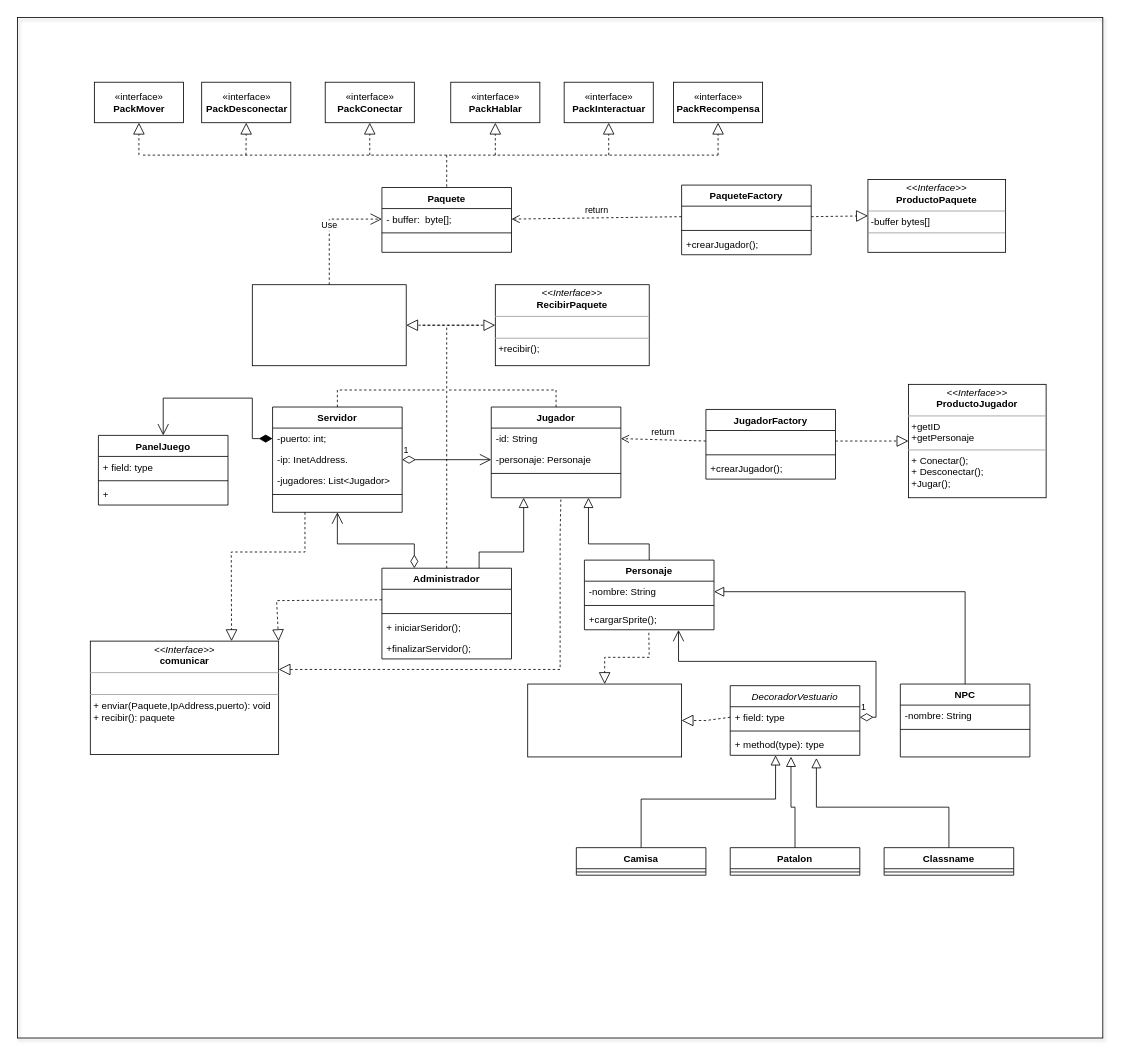
Some shapes in this 1122 by 1058 pixel diagram are drawn without their labels. Each missing label, with the centre of its shape:
"<<Interface>> EnviarPaquete +enviar(Paquete, ruta, puerto);" goes at [329,325].
"<<Interface>> Persona +getNombre()" goes at [604,720].
